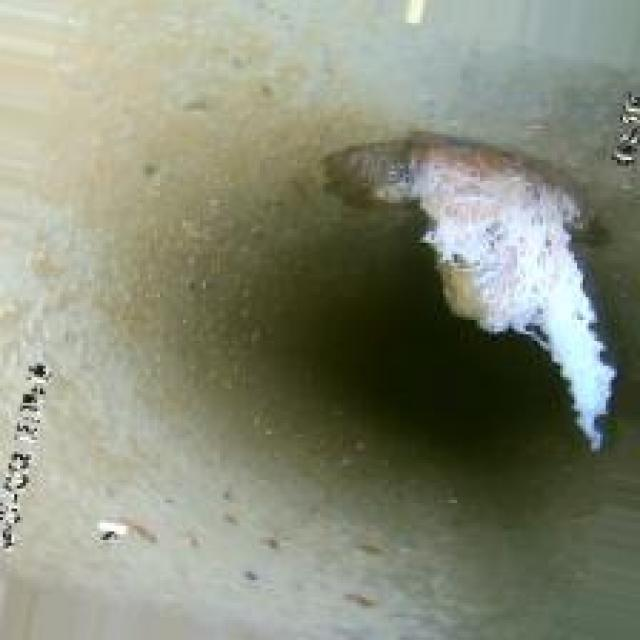ferrule: (317, 117, 617, 437), (317, 120, 617, 440)
